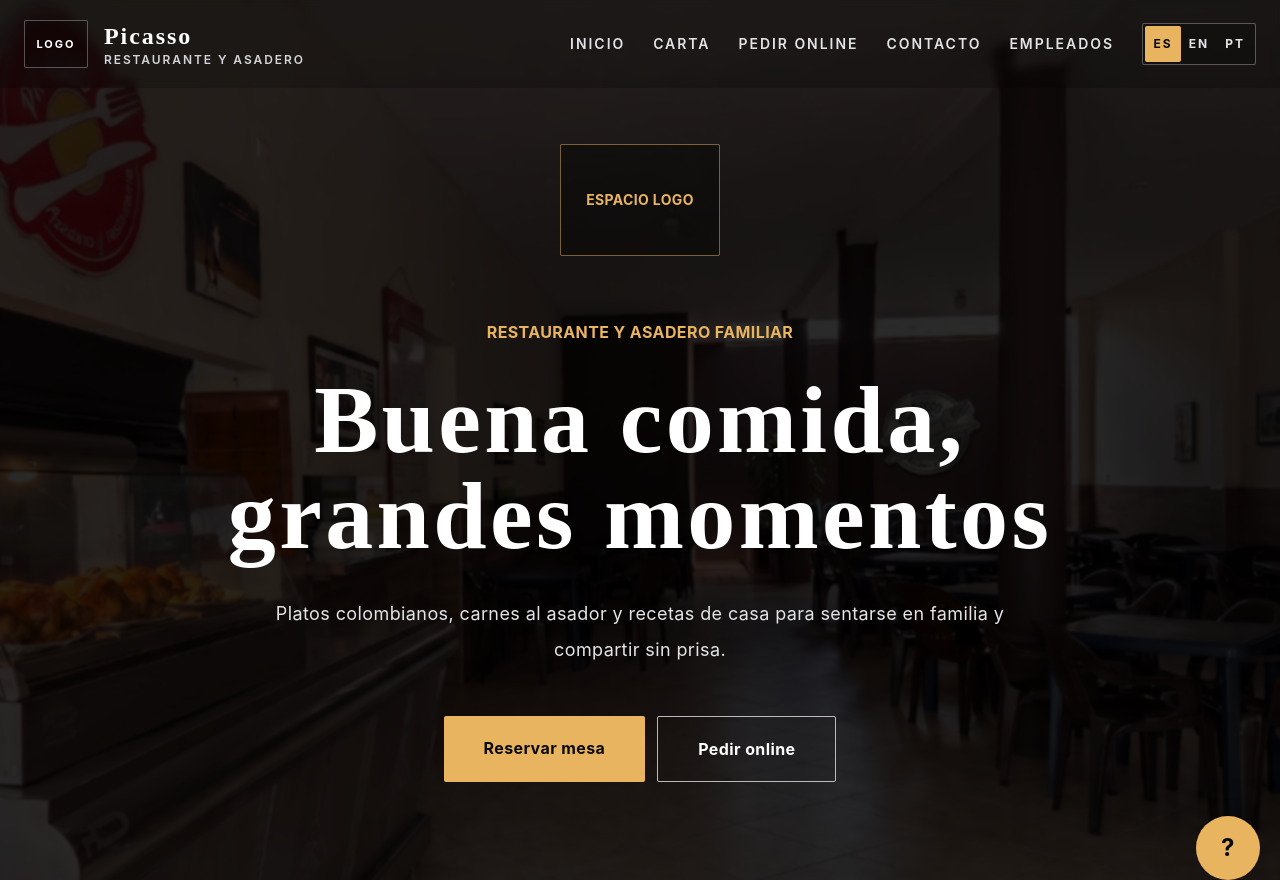
Test: App › returns to dish selection from the header without losing the cart
The width and height of the screenshot is (1280, 880).
Click the link "PEDIR ONLINE" at point(798, 44), box x1=738 y1=34 x2=858 y2=54
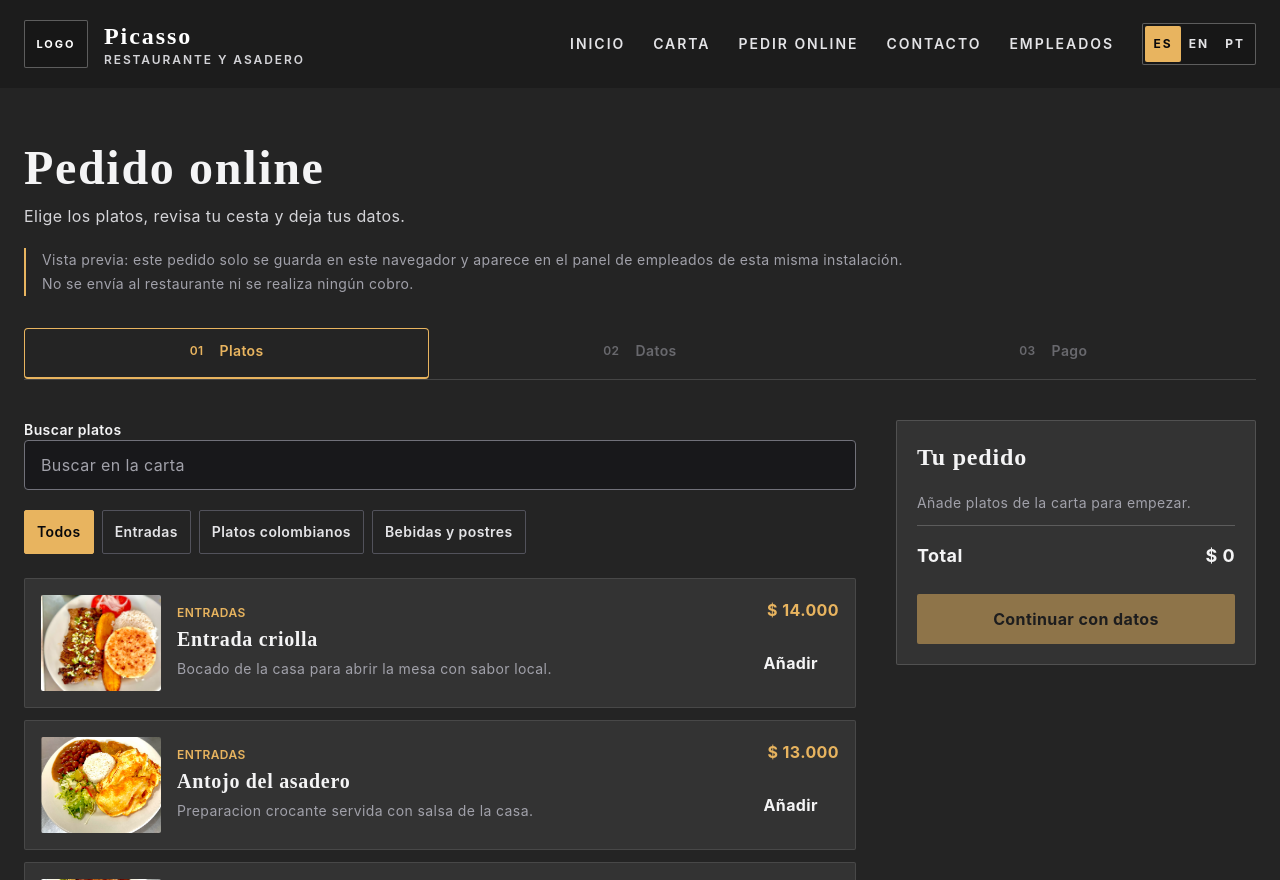
Click the button with aria-label "Añadir Entrada criolla" at point(791, 663), box x1=742 y1=638 x2=839 y2=688
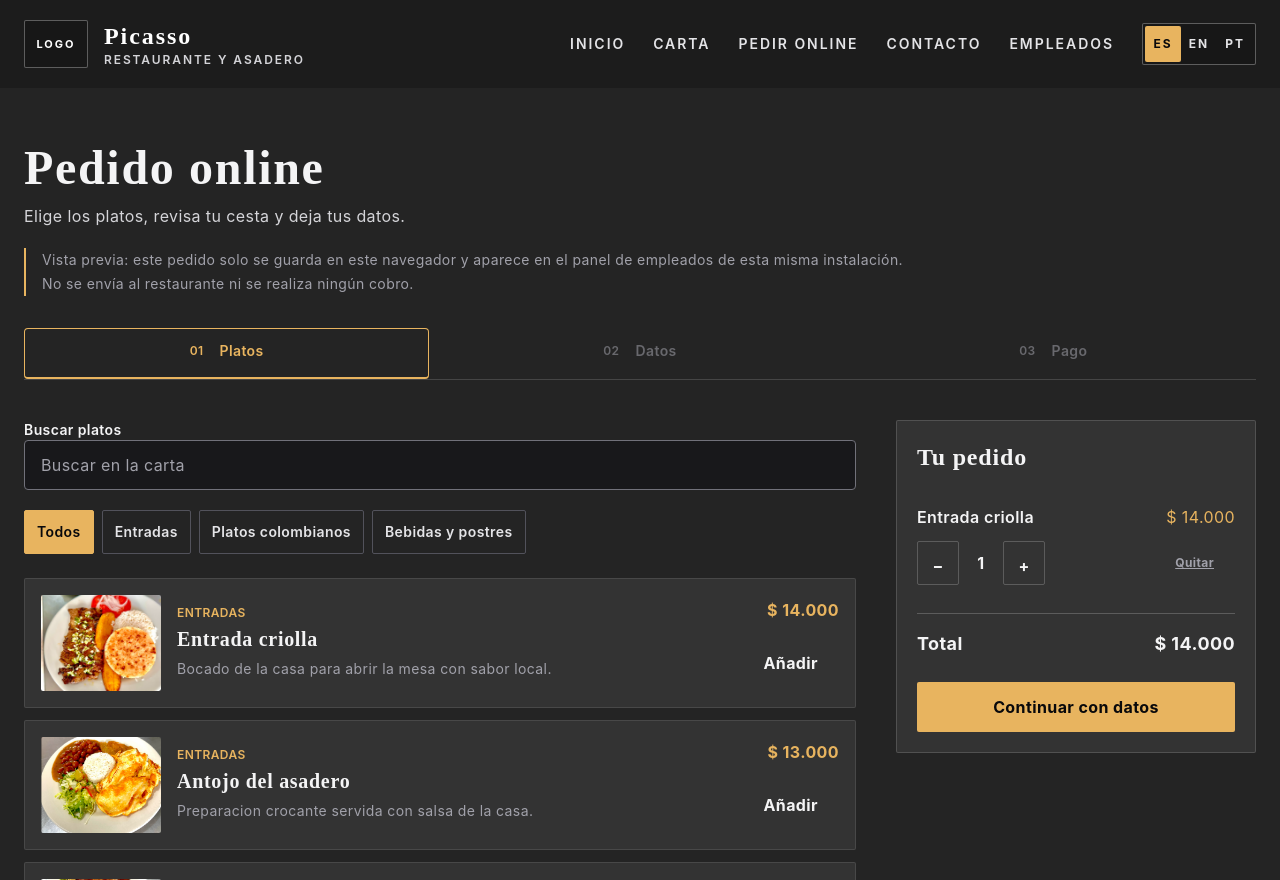
Click the button "Continuar con datos" at point(1076, 707), box x1=917 y1=682 x2=1235 y2=732
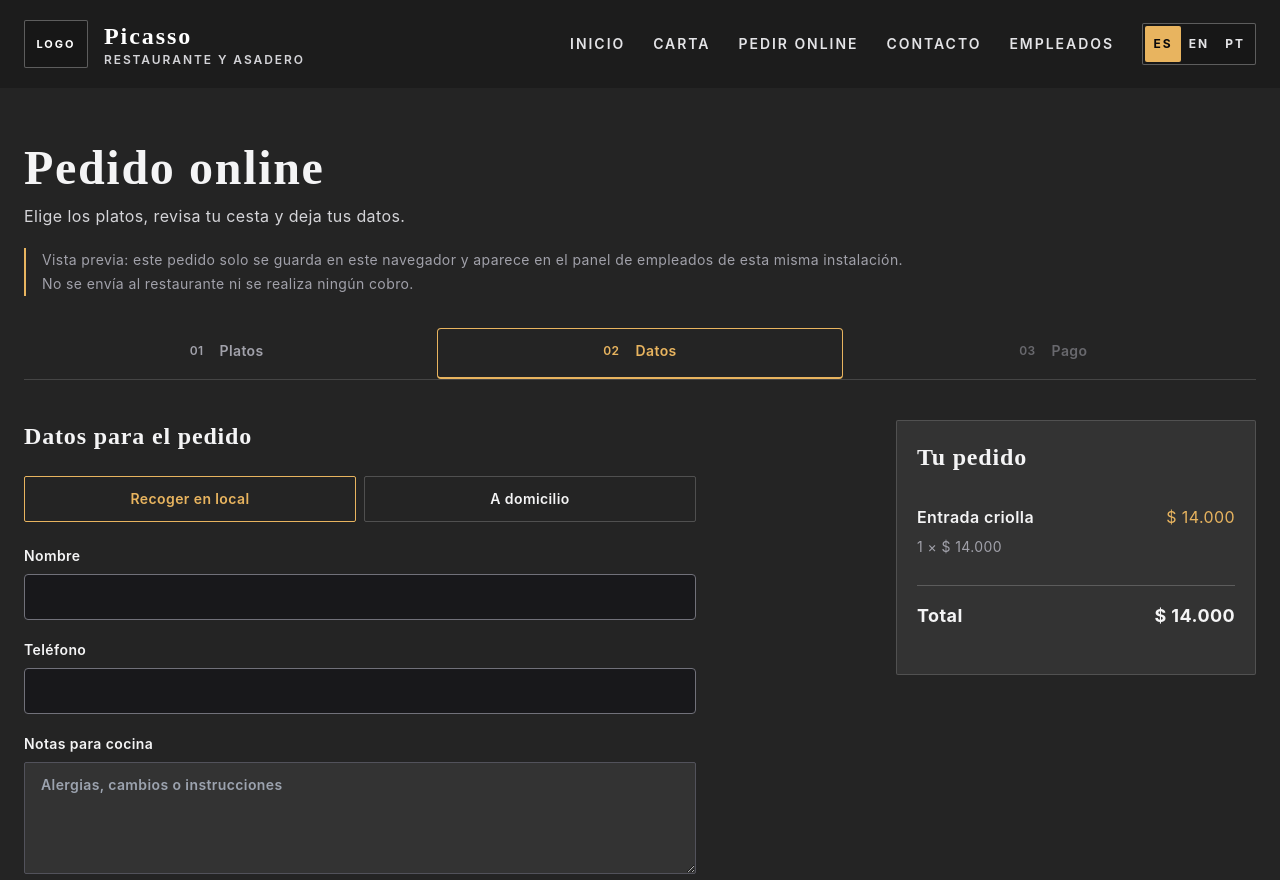
Click the link "PEDIR ONLINE" at point(798, 44), box x1=738 y1=34 x2=858 y2=54
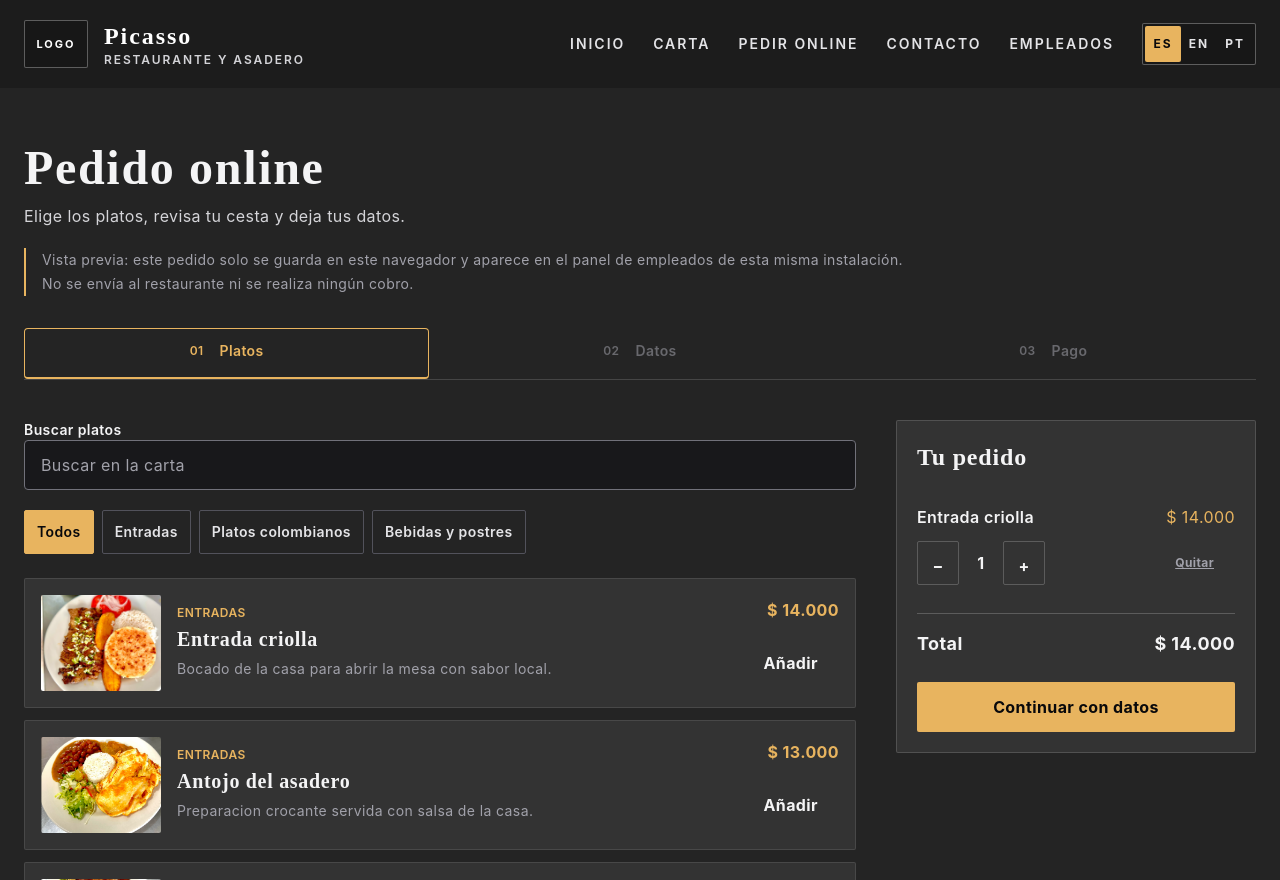
Now the search field labelled "Buscar platos" is shown, box x1=24 y1=440 x2=856 y2=490
Now the text named "Cantidad" reads "1", box x1=977 y1=553 x2=985 y2=573
